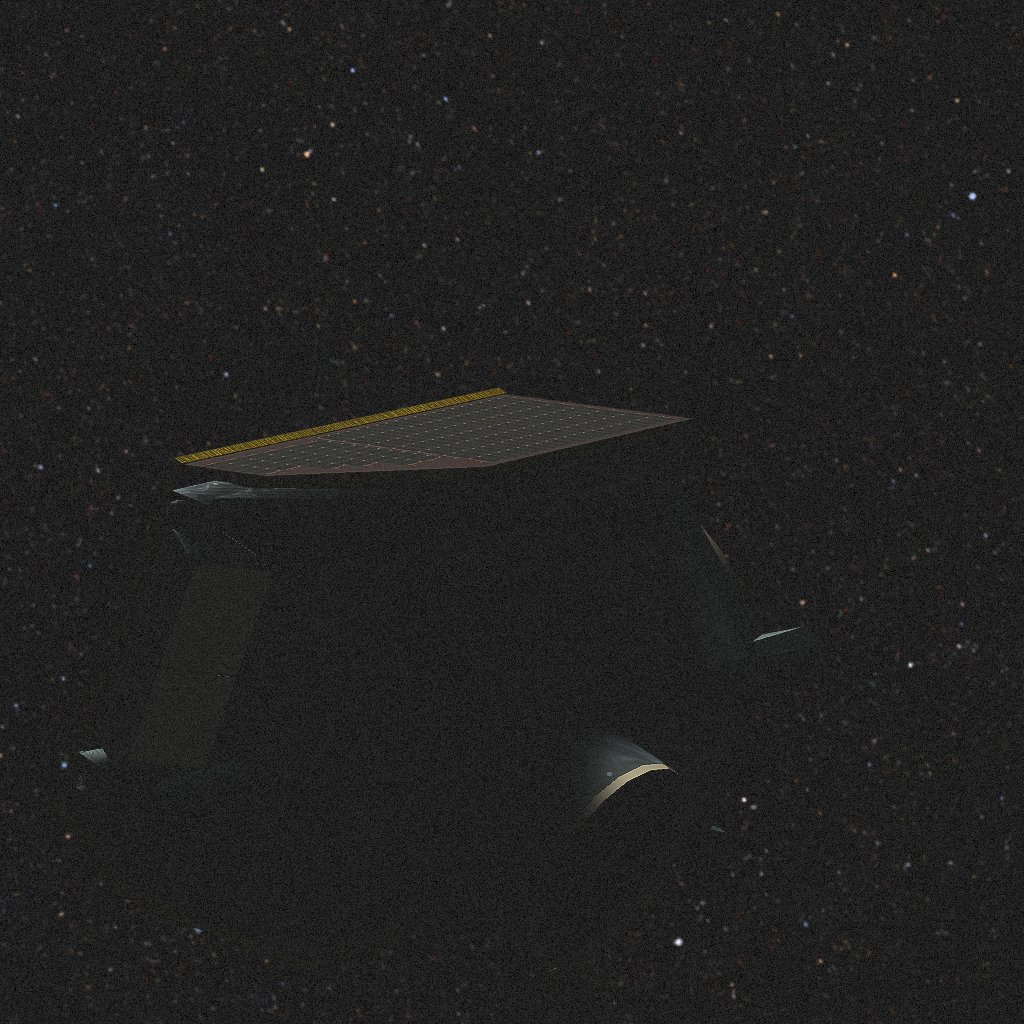cheops: (55, 388, 827, 1024)
